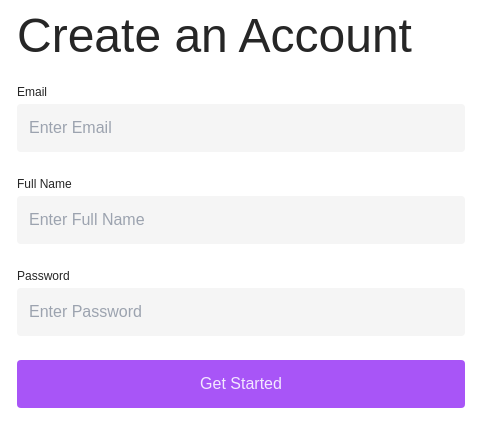
Scenario: Register Form › must show error message when full name is invalid
The width and height of the screenshot is (483, 445).
In the field with id "email": x=241, y=128 17,104 -> 465,152, type "test@test.com"
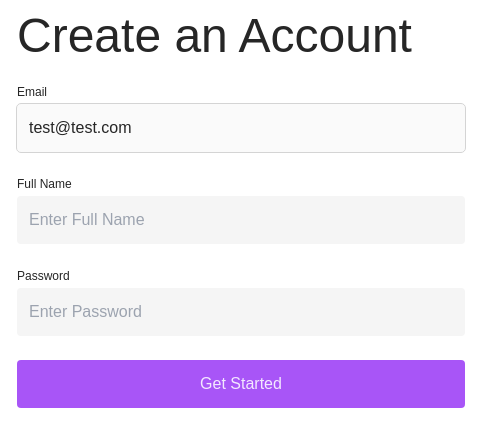
In the field with id "fullName": x=241, y=220 17,196 -> 465,244, type "Jo"
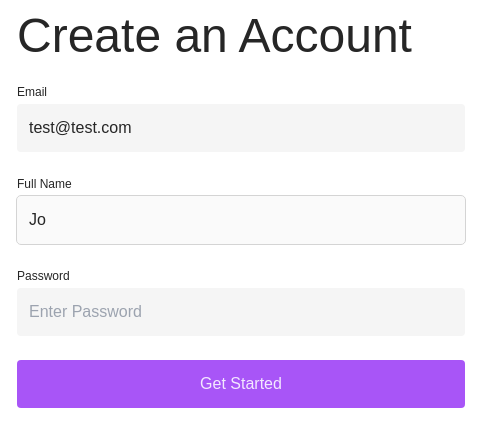
In the password field labelled "Password": x=241, y=312 17,288 -> 465,336, type "Password123"
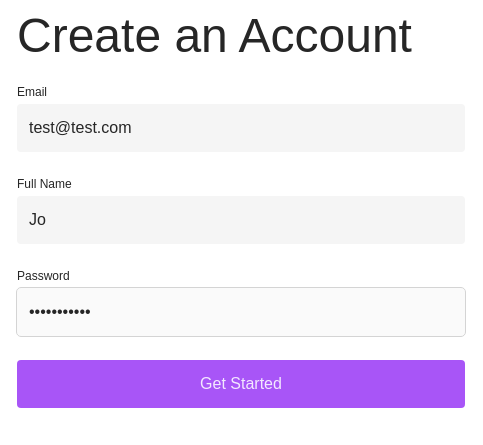
Submit the form
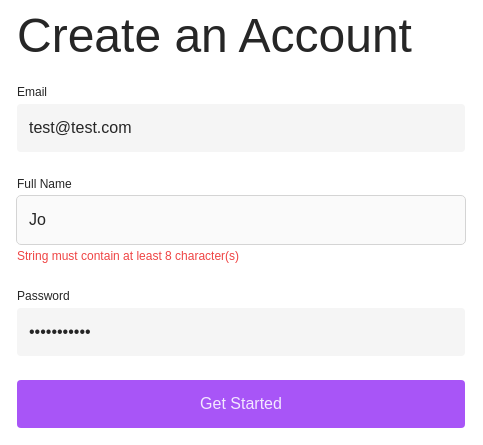
Expected: the text "String must contain at least 8 character(s)" is shown, 17,249 -> 239,263
